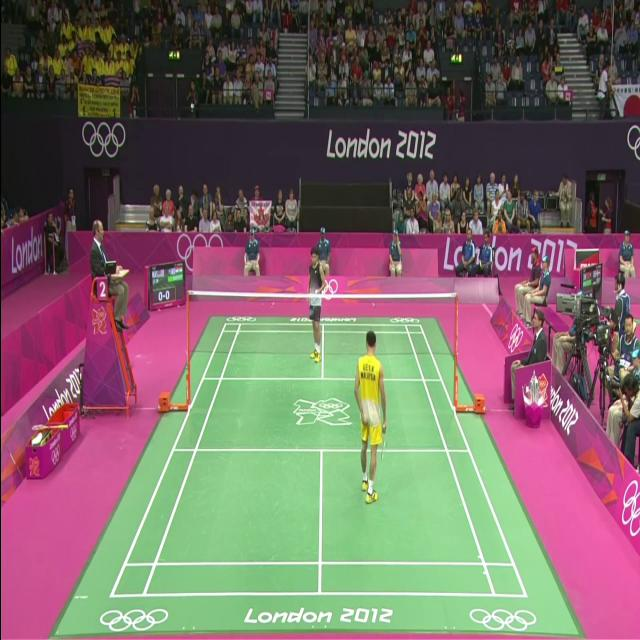Net: (188, 294, 457, 366)
Player1: (353, 325, 388, 516)
Player2: (301, 234, 332, 380)
Shuttlecock: (312, 285, 324, 310)
